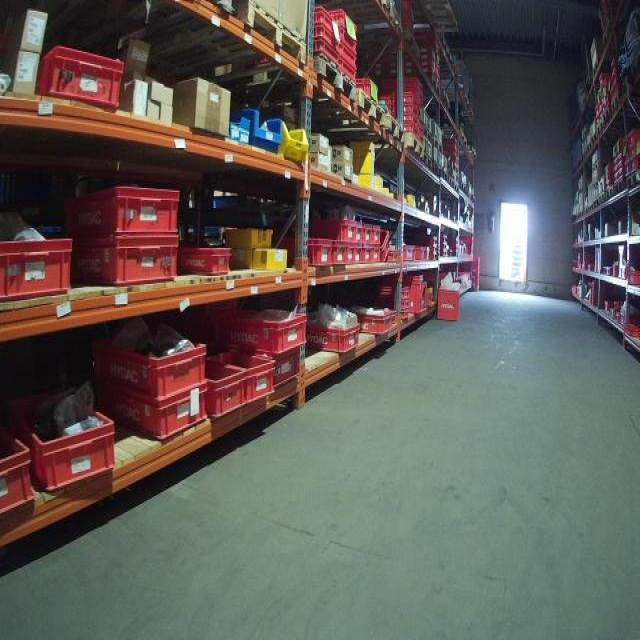pallet: (127, 2, 310, 87), (233, 51, 360, 112), (128, 2, 236, 27), (346, 87, 390, 133), (380, 112, 410, 150), (400, 131, 427, 166), (619, 175, 632, 195), (605, 183, 618, 203), (628, 171, 640, 190)
small_load_carrier: (28, 396, 115, 497), (90, 334, 213, 395), (92, 381, 210, 443), (79, 234, 185, 301), (34, 49, 127, 113), (78, 182, 185, 234), (2, 231, 75, 305), (207, 307, 309, 346), (211, 349, 275, 405), (2, 425, 38, 515), (207, 357, 249, 422), (185, 236, 232, 276), (272, 344, 310, 391), (278, 237, 331, 268), (307, 326, 354, 357), (303, 220, 354, 243), (401, 273, 427, 316), (434, 285, 462, 324), (330, 9, 362, 40), (308, 7, 344, 32), (359, 309, 393, 333), (310, 42, 340, 69), (338, 30, 361, 56), (313, 25, 340, 47), (362, 76, 381, 103), (380, 227, 394, 261), (372, 286, 410, 298), (329, 244, 348, 266), (332, 67, 357, 82), (338, 47, 355, 67), (400, 245, 418, 263), (415, 246, 432, 262), (353, 243, 364, 265), (394, 299, 411, 313), (395, 311, 412, 325), (363, 226, 374, 244), (373, 224, 382, 246), (354, 225, 364, 243), (373, 246, 382, 262), (364, 249, 373, 265), (346, 246, 354, 263), (624, 131, 637, 141)
